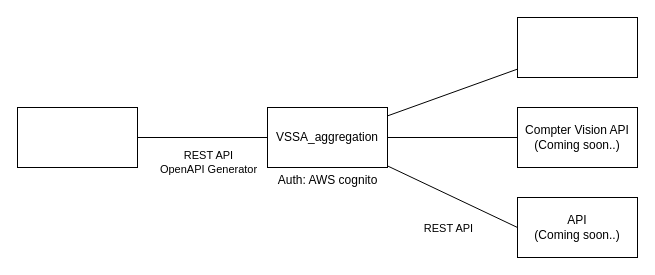
This 655x275 diagram has some shape labels left out. Here are the shapes that lost their labels. From the top down, the centre of each, then its label:
At [577,47]: "VSSA Backend API".
At [77,137]: "VSSA_React".
